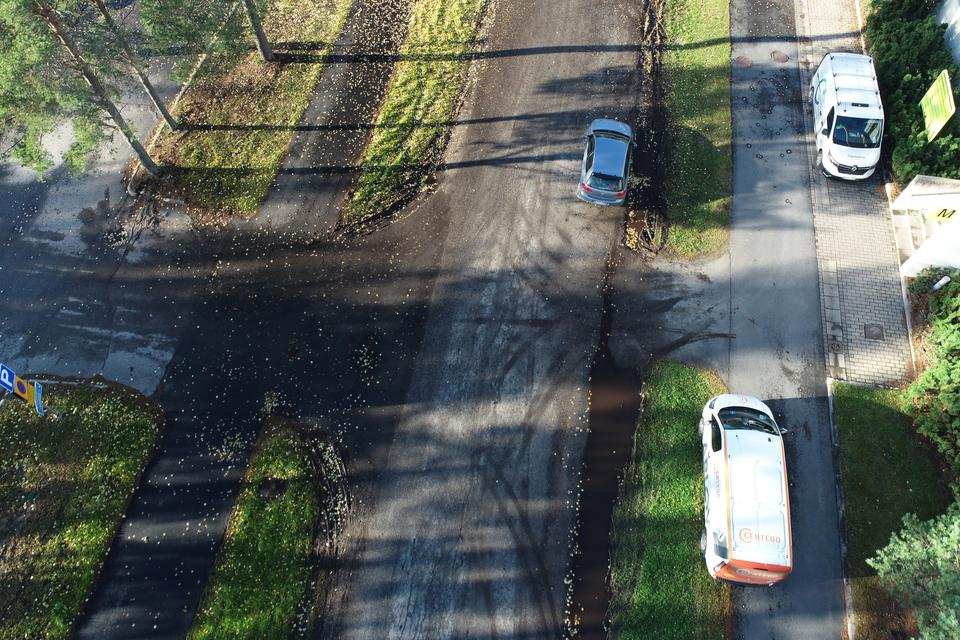intersection: (83, 158, 698, 459)
